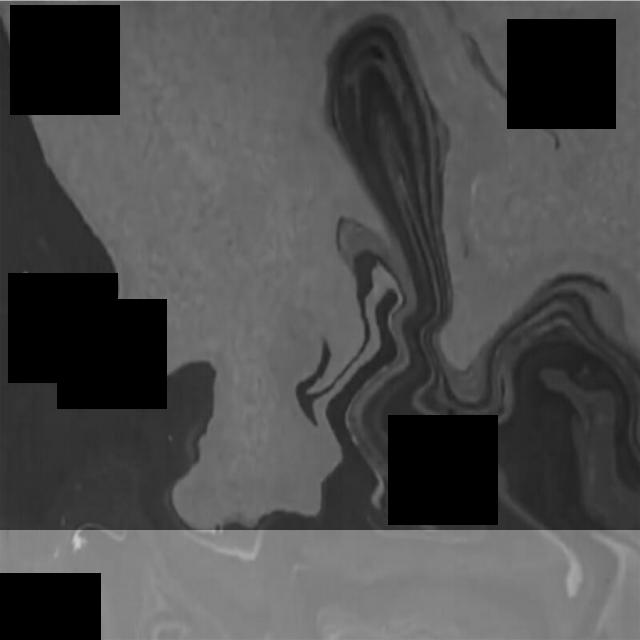oil spill: (0, 1, 640, 530)
